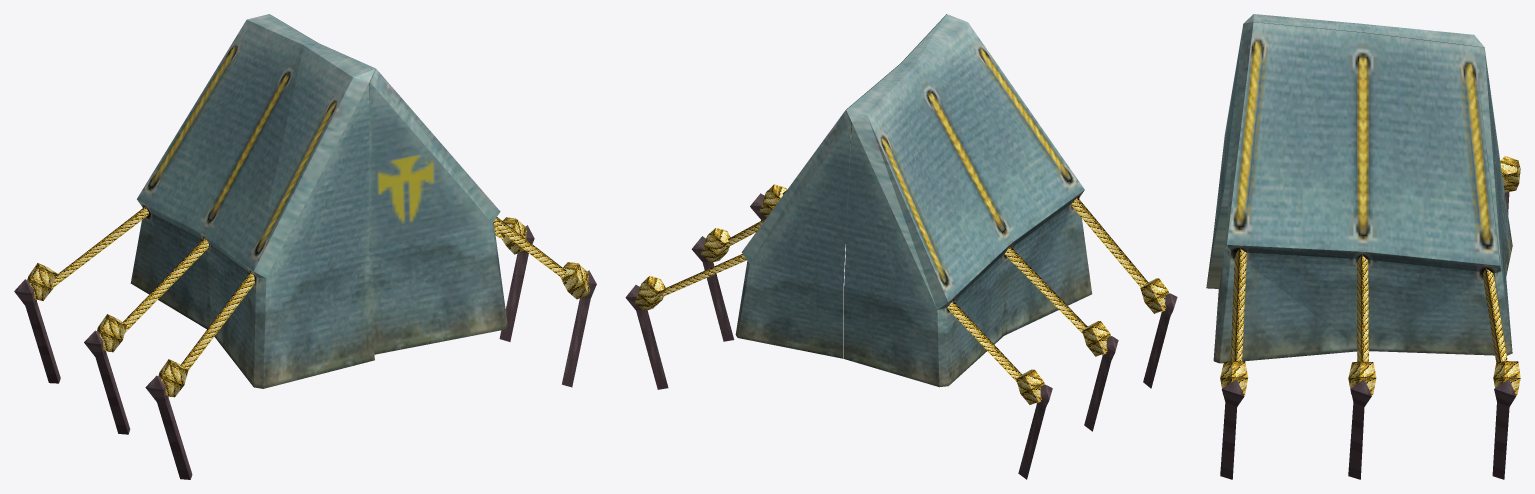
Rendered from C4SMSTENT_H.obj.
3 views of the same model, side by side, from view 1: azimuth 30°, elevation 25°; view 2: azimuth 150°, elevation 25°; view 3: azimuth 270°, elevation 25° (orthographic). The views are drawn at different scales.
Visible parts, largest first — view 1: Node 7, Node 6, Node 0, Node 4, Node 5, Node 1; view 2: Node 7, Node 6, Node 0, Node 4, Node 5, Node 3, Node 2; view 3: Node 6, Node 7, Node 0, Node 1, Node 2, Node 3, Node 5.
Part boxes in pixels (x1,y1,x2,y2): Node 7: [130, 14, 375, 388]; Node 6: [269, 14, 507, 354]; Node 0: [14, 225, 596, 479]; Node 4: [97, 238, 254, 397]; Node 5: [27, 206, 148, 300]; Node 1: [493, 217, 589, 299]; Node 7: [844, 14, 1092, 387]; Node 6: [735, 14, 946, 358]; Node 0: [625, 193, 1177, 479]; Node 4: [1004, 197, 1169, 356]; Node 5: [947, 300, 1044, 404]; Node 3: [635, 254, 746, 310]; Node 2: [701, 218, 766, 262]; Node 6: [1213, 22, 1512, 363]; Node 7: [1206, 14, 1512, 288]; Node 0: [1220, 192, 1515, 479]; Node 1: [1220, 248, 1248, 394]; Node 2: [1348, 254, 1376, 395]; Node 3: [1482, 268, 1520, 395]; Node 5: [1500, 156, 1520, 192].
Bounding box in the file's own units: 7.22 × 5.44 × 4.25.
8 materials, 8 textured.
